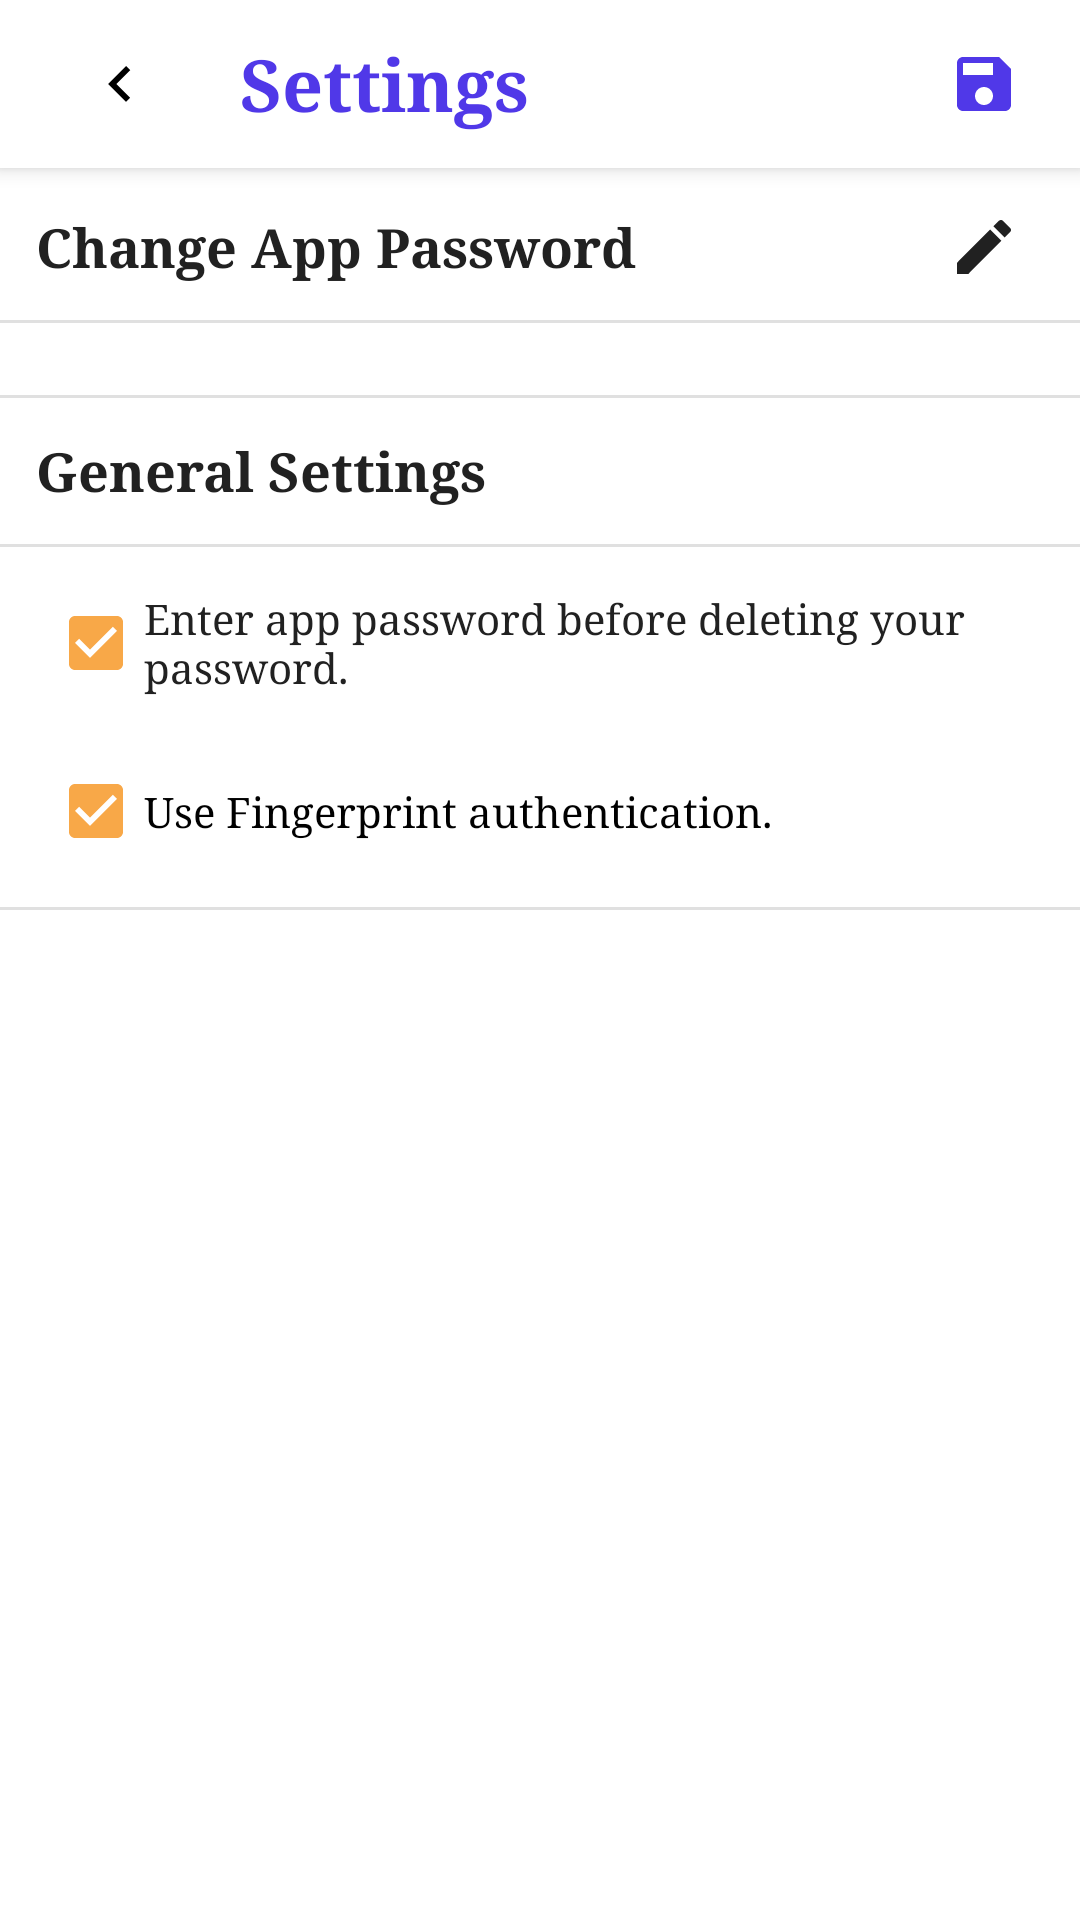

Named icons in this screenshot (1080x1920) and their bounding boxes, rect(x1, y1, x2, y2):
edit: rect(957, 220, 1011, 274)
keyboard arrow left: rect(108, 66, 130, 102)
save Button: rect(957, 57, 1011, 111)
